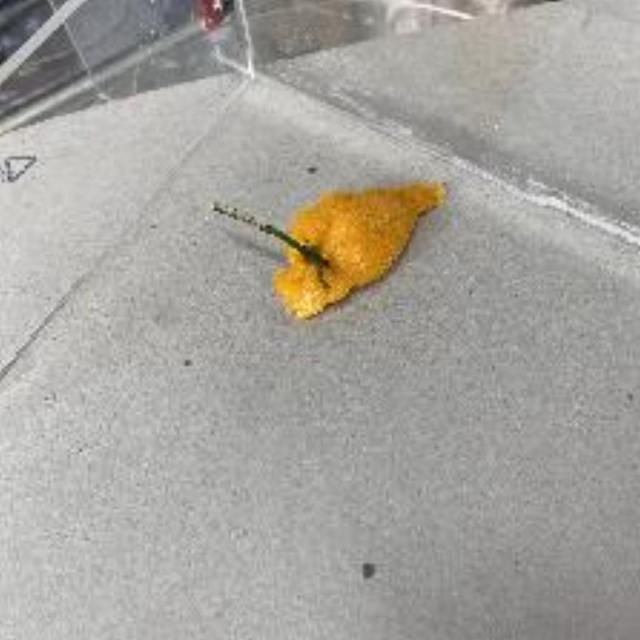orange peel: (268, 179, 453, 325)
